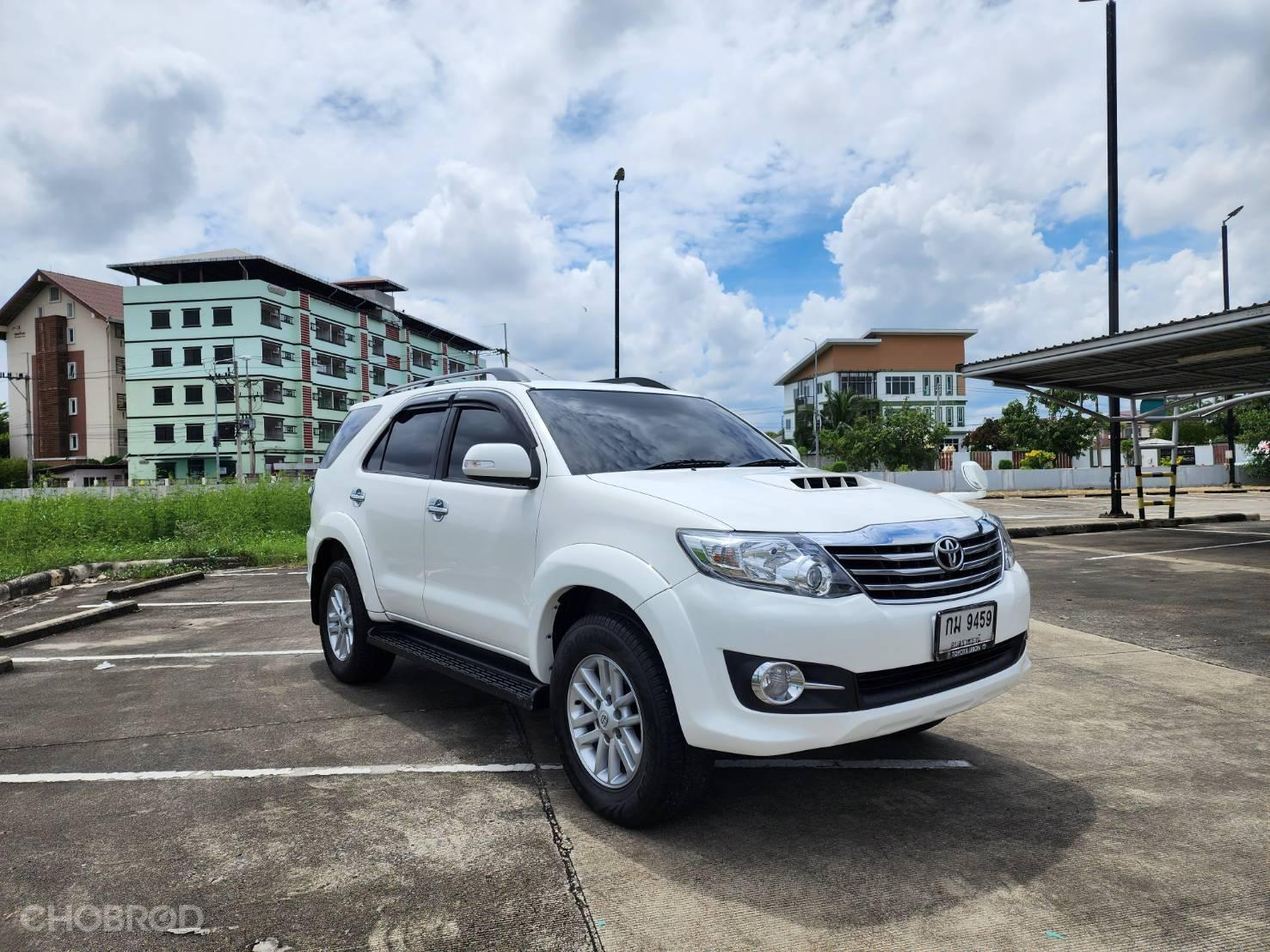license-plate: (928, 594, 1004, 669)
